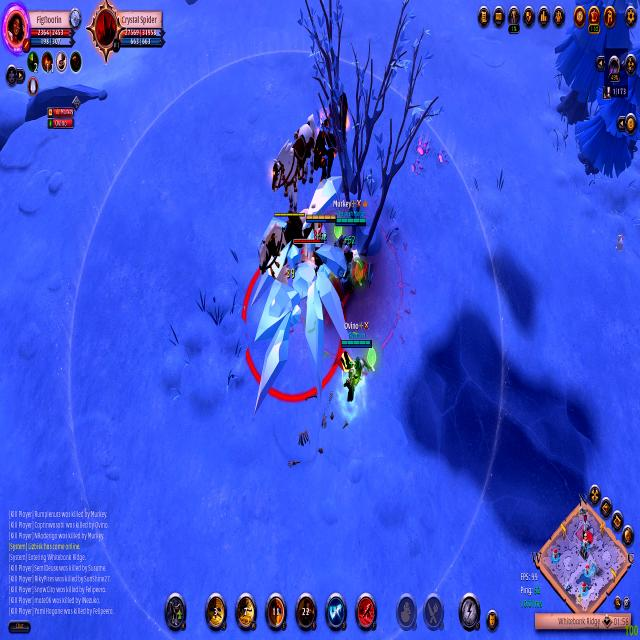ore: (244, 224, 348, 400)
red: (338, 316, 374, 426), (332, 194, 368, 304), (303, 212, 337, 276)
